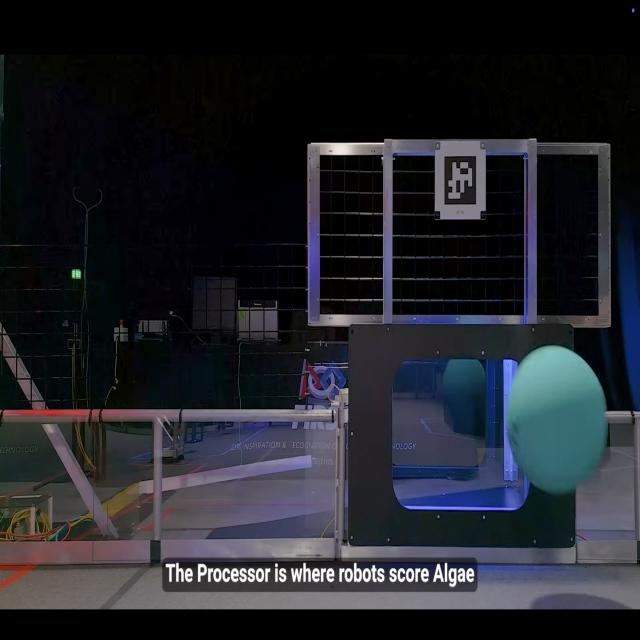algae: (500, 337, 614, 500)
